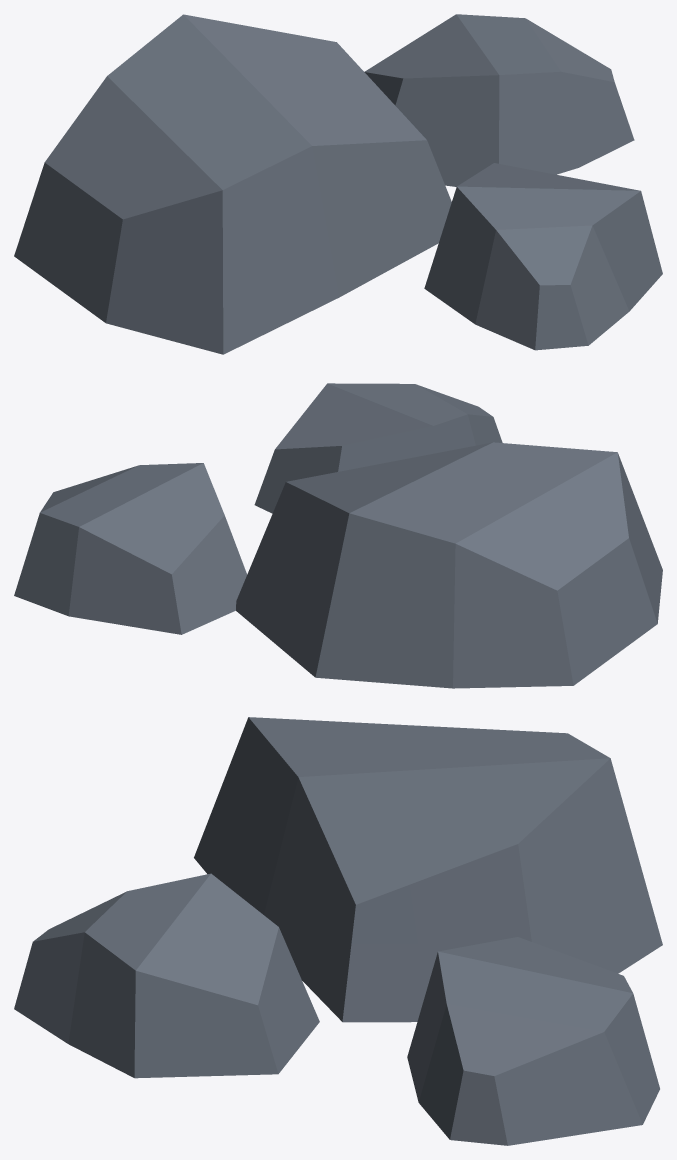
The model's file is Rock_3.glb.
3 renders of one model, top to bottom at view 1: azimuth 30°, elevation 25°; view 2: azimuth 150°, elevation 25°; view 3: azimuth 270°, elevation 25°, orthographic. The views are drawn at different scales.
Parts seen in each view (by area): view 1: Rock_3; view 2: Rock_3; view 3: Rock_3.
Boxes of the visible parts, x1,y1,x2,y2 form: Rock_3: (14,14,662,354); Rock_3: (14,383,662,688); Rock_3: (14,717,662,1145).
Size of the model in its own units: 0.3037 by 0.0801 by 0.2619.
